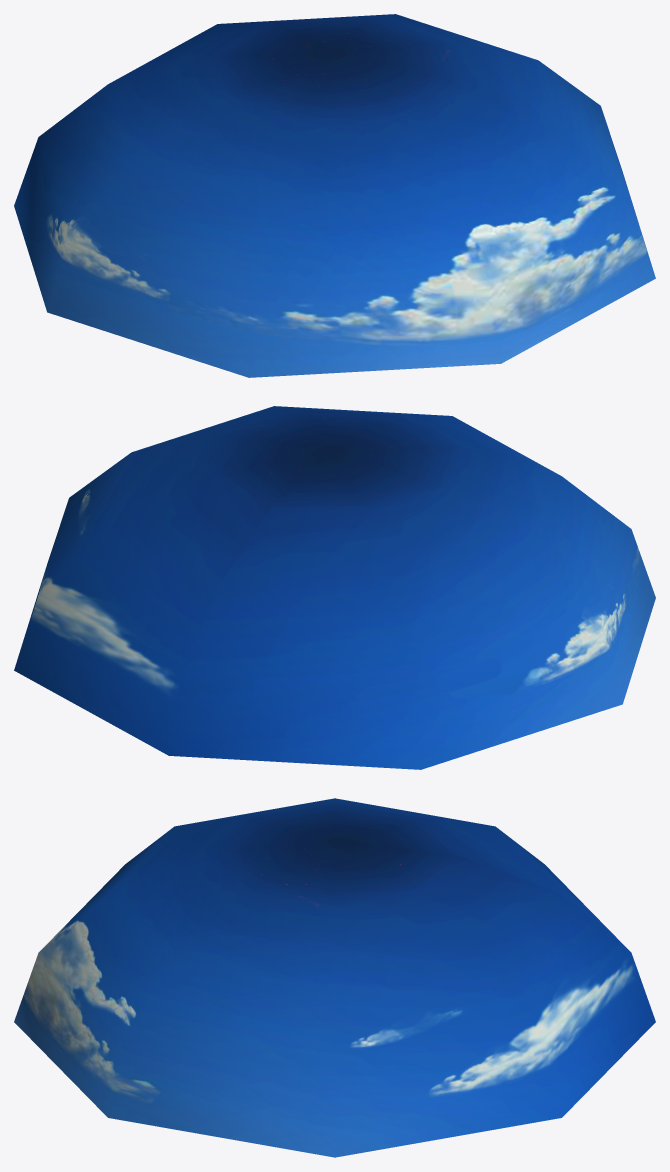
The model's file is Skydome.fbx.
3 views of the same model, one above another, from view 1: azimuth 30°, elevation 25°; view 2: azimuth 150°, elevation 25°; view 3: azimuth 270°, elevation 25° (orthographic). The views are drawn at different scales.
Visible parts, largest first — view 1: sphere; view 2: sphere; view 3: sphere.
Boxes of the visible parts, x1,y1,x2,y2 form: sphere: [14, 14, 655, 377]; sphere: [14, 406, 655, 769]; sphere: [14, 798, 655, 1157].
Bounding box in the file's own units: 658 × 204 × 658.
1 material, 1 textured.
